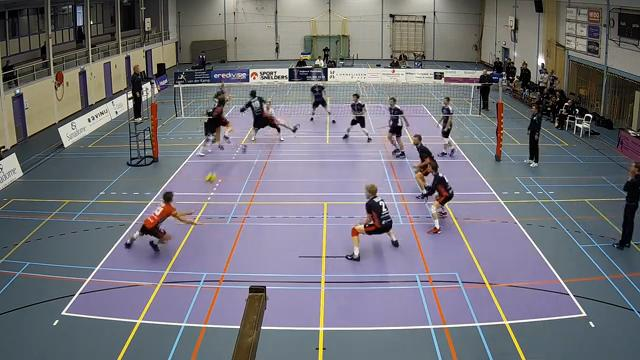Dig: (120, 187, 207, 257)
Player: (346, 184, 398, 260), (240, 90, 283, 140), (198, 91, 230, 155), (426, 161, 453, 233), (343, 93, 371, 141), (413, 134, 433, 198), (387, 97, 408, 157), (265, 99, 299, 133), (439, 97, 455, 156), (310, 84, 330, 120), (215, 84, 230, 106)
ball: (205, 172, 219, 184)
